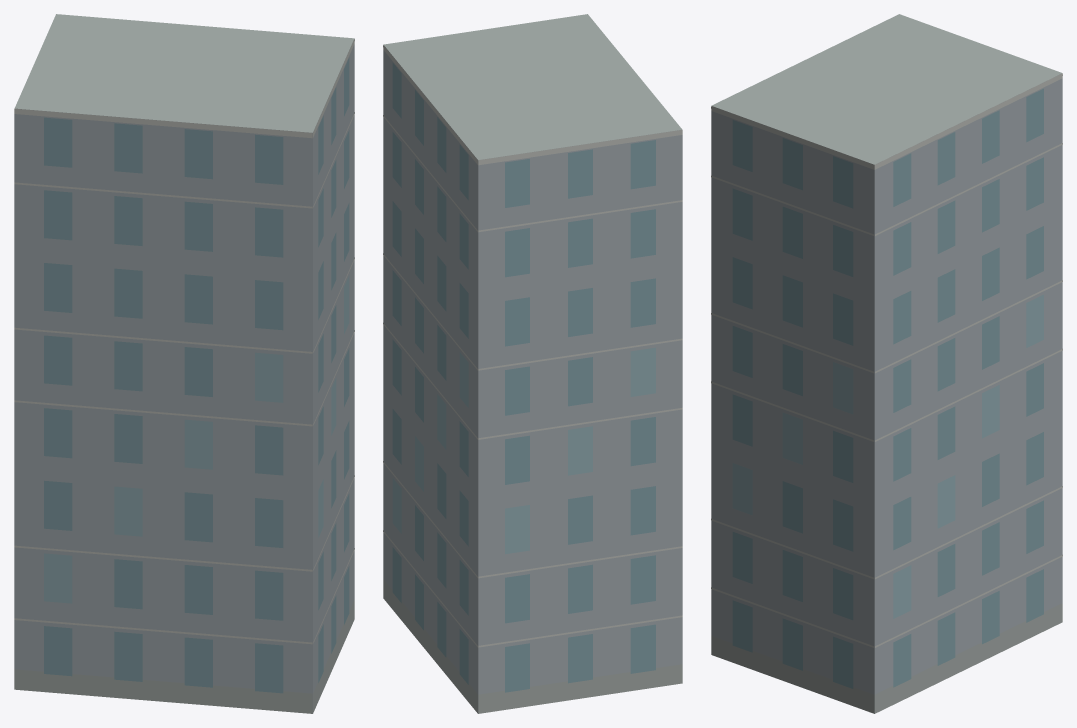
Rendered from survey-upis-32519735.glb.
3 views of the same model, side by side, from view 1: azimuth 30°, elevation 25°; view 2: azimuth 150°, elevation 25°; view 3: azimuth 270°, elevation 25° (orthographic). The views are drawn at different scales.
Parts seen in each view (by area): view 1: survey-upis-32519735.tmp; view 2: survey-upis-32519735.tmp; view 3: survey-upis-32519735.tmp.
Boxes of the visible parts, x1,y1,x2,y2 form: survey-upis-32519735.tmp: (14, 14, 354, 713); survey-upis-32519735.tmp: (383, 14, 682, 713); survey-upis-32519735.tmp: (711, 14, 1062, 713).
Bounding box in the file's own units: 15.3 × 25.95 × 15.07.
